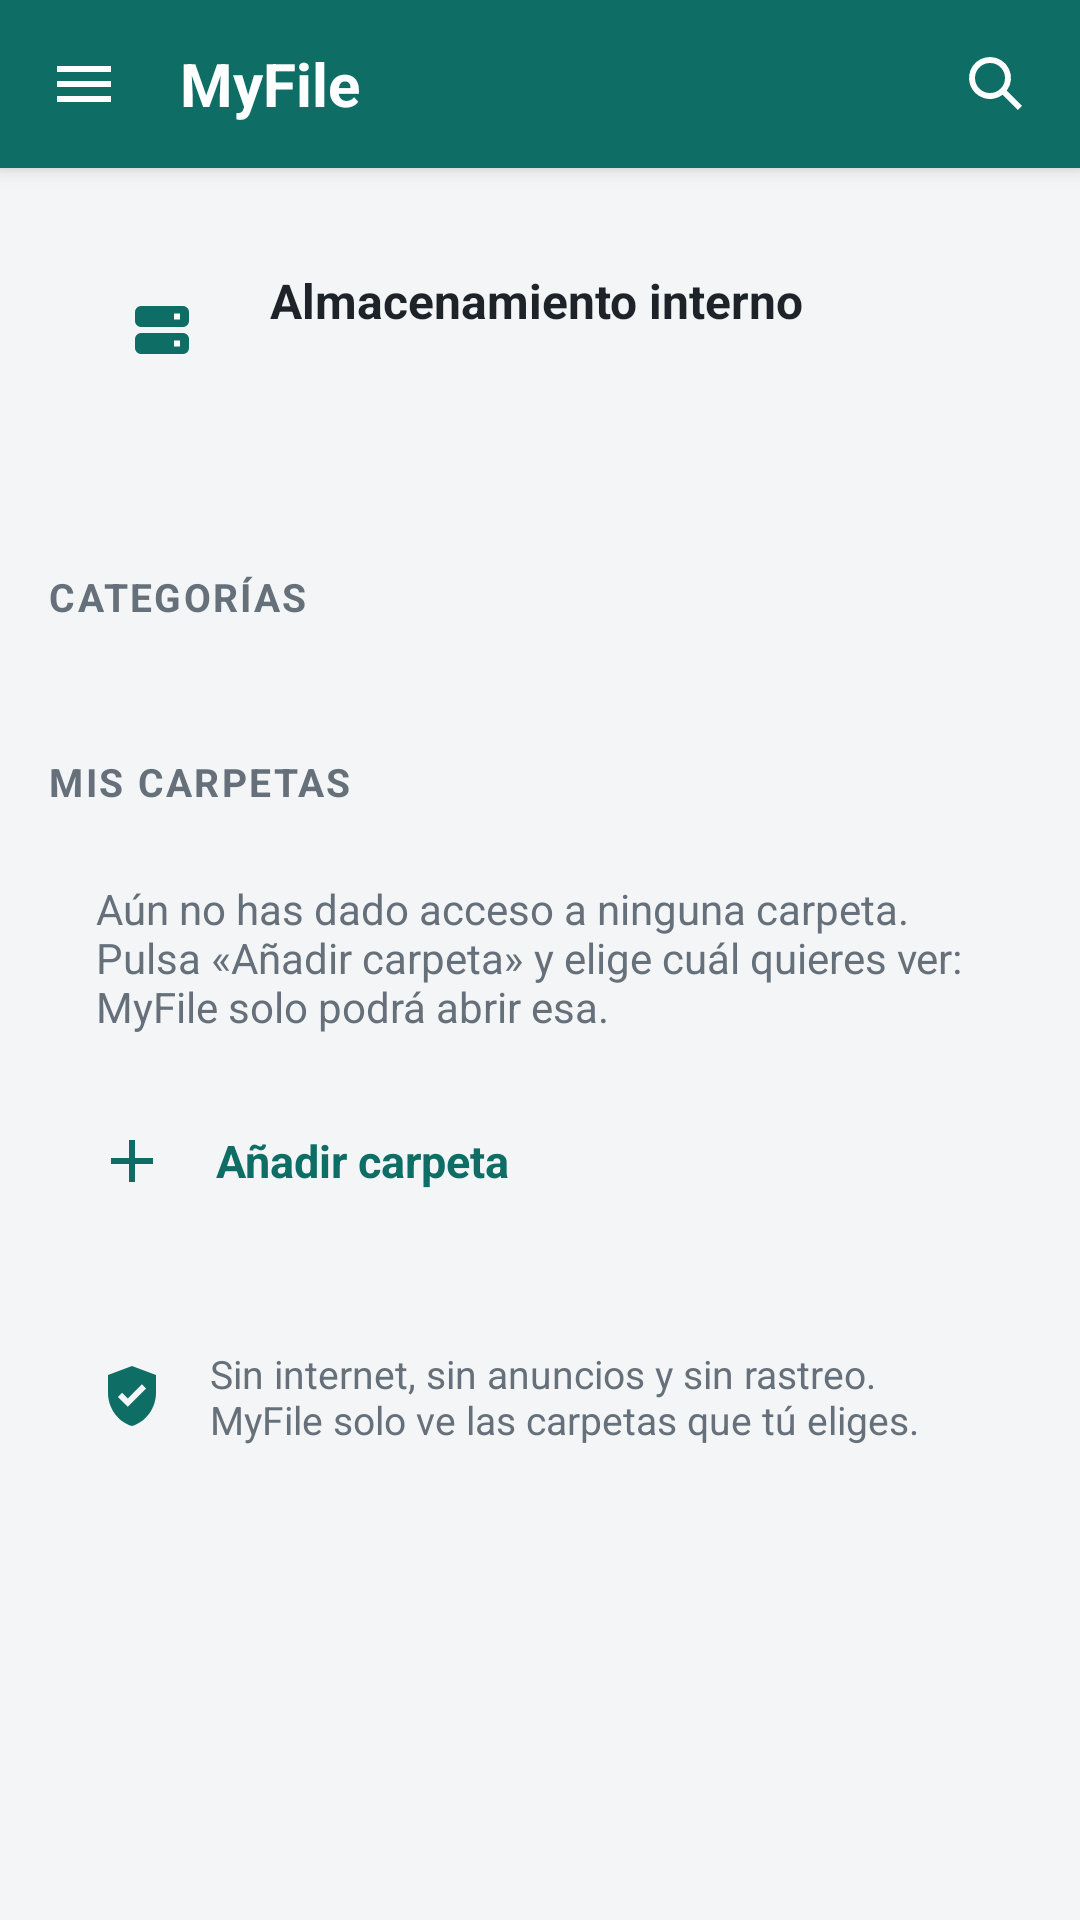

Named icons in this screenshot (1080 x 1920) and their bounding boxes, (x1, y1, x2, y2):
Buscar: (969, 57, 1022, 110)
Menú: (57, 66, 111, 102)
shield: (108, 1366, 156, 1426)
storage: (135, 306, 189, 354)
